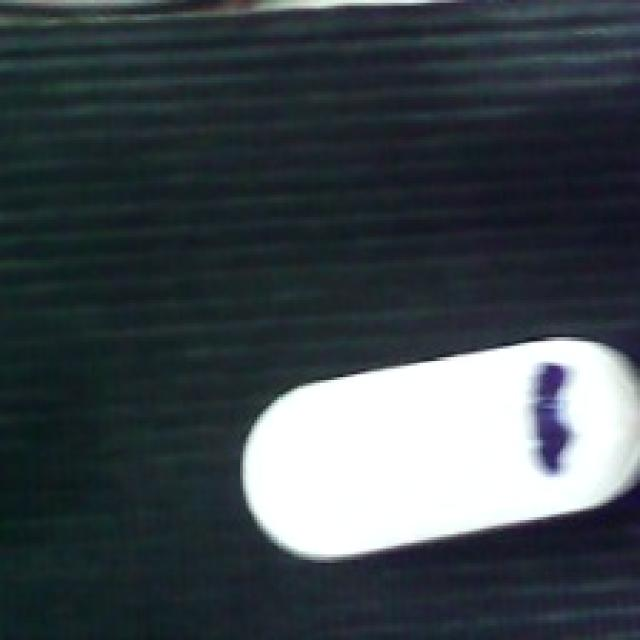defected: (237, 337, 640, 566)
